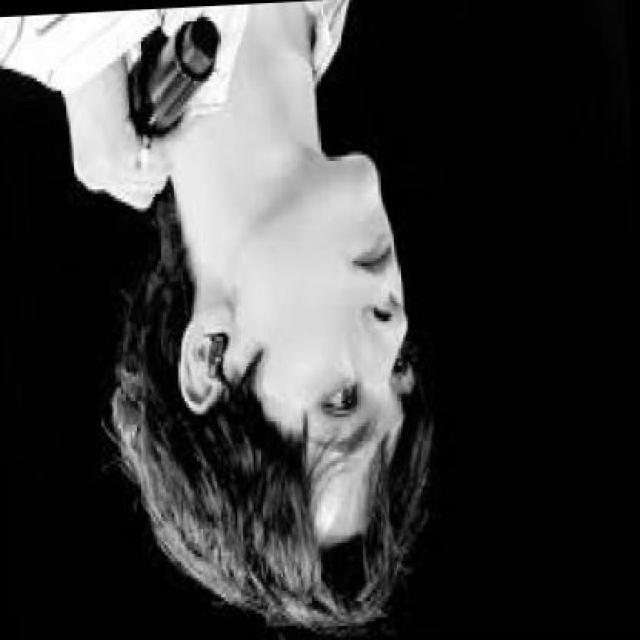earphone: (186, 325, 239, 374)
